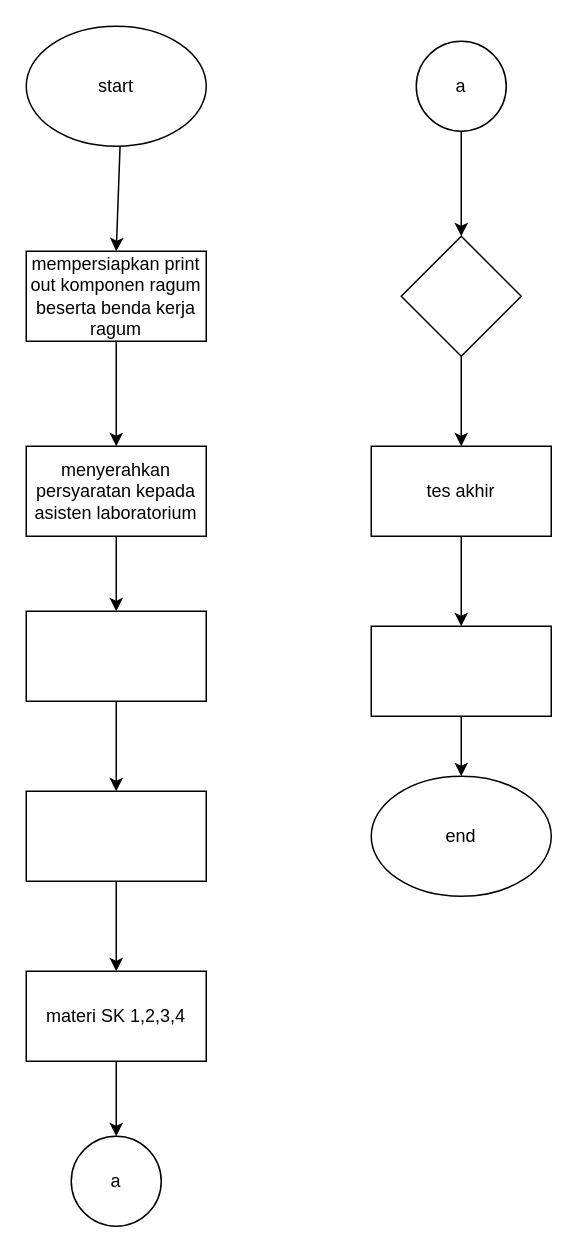
Some shapes in this 578 by 1253 pixel diagram are drawn without their labels. The shapes that lost their labels are listed below. From the top down, each one's centre as x and y in pixels, then its label:
At point 460,295: "semua materi selesai".
At point 115,655: "masuk kedalam SSML".
At point 460,670: "keluar SSML".
At point 115,835: "briefing dari asisten laboratorium".
